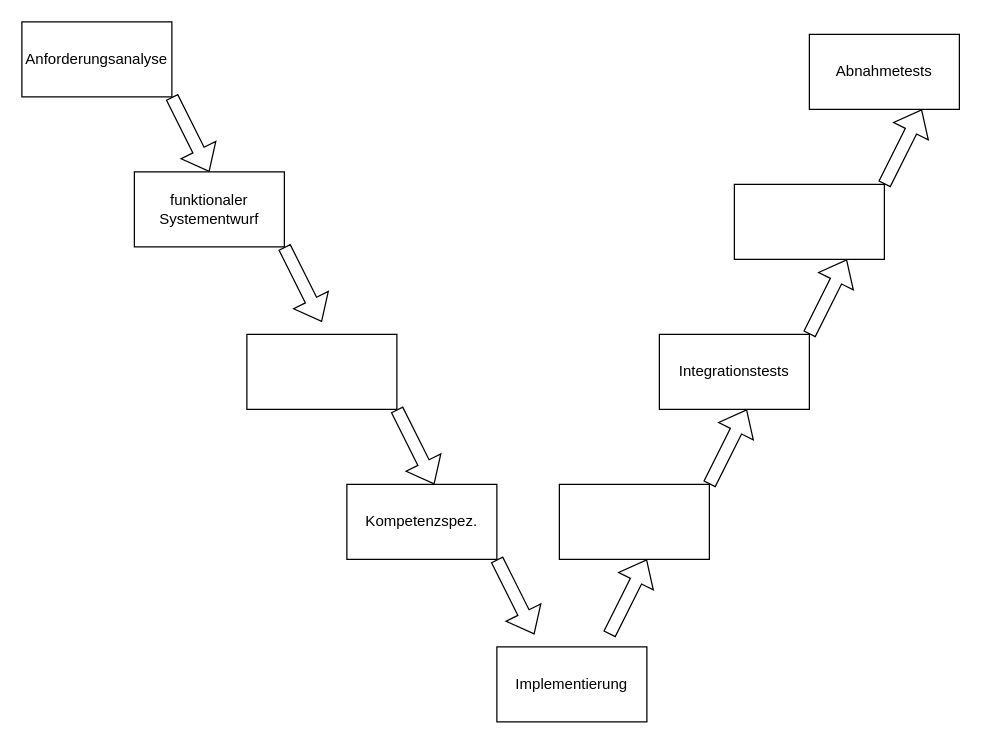
Some shapes in this 981 by 744 pixel diagram are drawn without their labels. The centre of each missing label's shape, as x and y in pixels:
Kompetenztests: the point at 633,521
Systemtests: the point at 808,221
technischer Systementwurf: the point at 321,371
